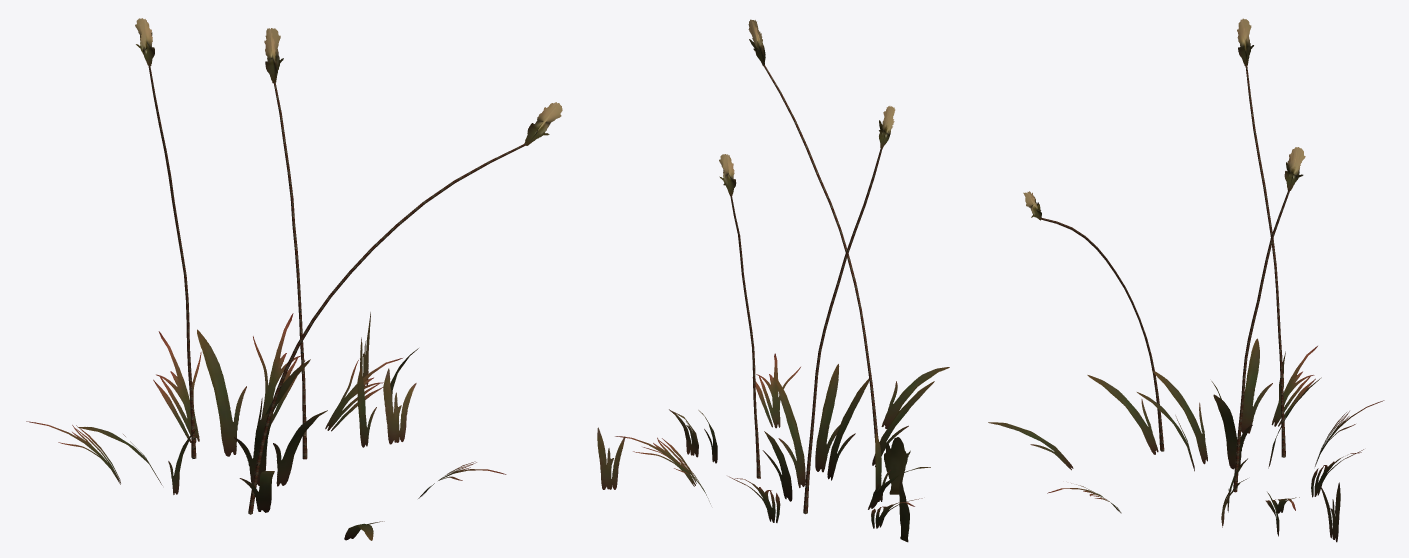
The picture shows the model from 3 angles, left to right: view 1: azimuth 30°, elevation 25°; view 2: azimuth 150°, elevation 25°; view 3: azimuth 270°, elevation 25°; orthographic projection. The views are drawn at different scales.
Parts seen in each view (by area): view 1: SM_US_Sedge_05_LOD0; view 2: SM_US_Sedge_05_LOD0; view 3: SM_US_Sedge_05_LOD0.
Part boxes in pixels (x1,y1,x2,y2): SM_US_Sedge_05_LOD0: (26, 18, 562, 540); SM_US_Sedge_05_LOD0: (597, 19, 949, 542); SM_US_Sedge_05_LOD0: (988, 18, 1384, 542).
Bounding box in the file's own units: 0.7662 × 0.9342 × 0.8347.
1 material, 1 textured.
